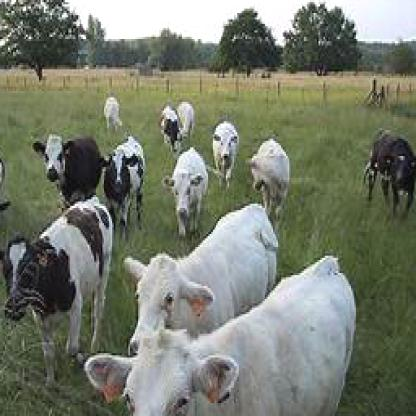cow: (86, 256, 361, 414), (122, 204, 278, 355), (0, 195, 116, 393), (362, 130, 414, 221), (32, 134, 102, 200), (162, 146, 210, 238), (102, 136, 146, 226), (247, 138, 291, 216), (213, 122, 237, 184), (0, 139, 13, 251), (104, 93, 124, 132)
